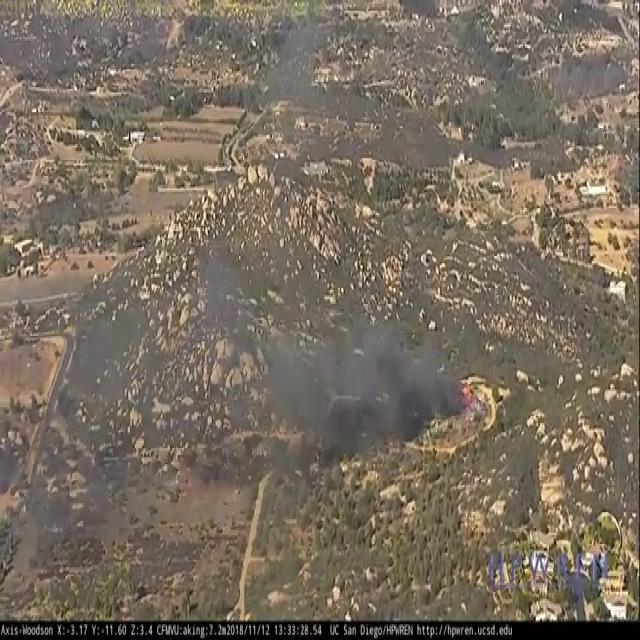Fire: (462, 382, 472, 398)
Smoke: (210, 199, 471, 455), (30, 307, 140, 558), (264, 30, 379, 160), (342, 305, 436, 427), (270, 332, 325, 444)
